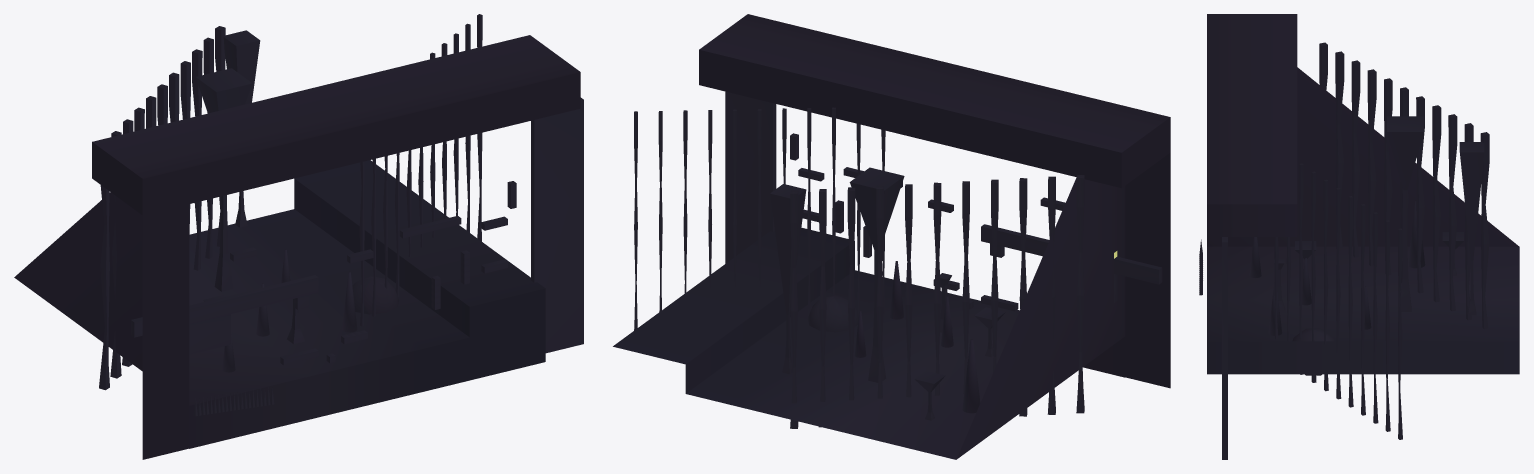
The model's file is terrain.glb.
3 renders of one model, left to right at view 1: azimuth 30°, elevation 25°; view 2: azimuth 150°, elevation 25°; view 3: azimuth 270°, elevation 25°, orthographic. The views are drawn at different scales.
Visible parts, largest first — view 1: Ground, Ground.021, Pole, Pole.001, Cube.004, Ground.018, Cube.005, Ground.019, Icosphere, Cone, Ground.024, Cylinder.002; view 2: Ground, Pole, Ground.021, Pole.001, Cube.004, Cube.005, Ground.018, Icosphere, Cylinder.004; view 3: Ground, Pole, Pole.001, Cube.004, Cube.005, Ground.021, Cylinder.004, Icosphere, Cylinder.002, Cylinder.
Boxes of the visible parts, <box> form: Ground: <box>14,35,580,459</box>; Ground.021: <box>531,97,583,353</box>; Pole: <box>99,26,225,390</box>; Pole.001: <box>359,14,482,326</box>; Cube.004: <box>196,68,252,291</box>; Ground.018: <box>131,275,318,337</box>; Cube.005: <box>223,30,260,227</box>; Ground.019: <box>189,314,230,354</box>; Icosphere: <box>352,275,398,314</box>; Cone: <box>193,387,274,416</box>; Ground.024: <box>399,215,461,238</box>; Cylinder.002: <box>342,271,357,332</box>; Ground: <box>613,14,1170,459</box>; Pole: <box>790,175,1084,428</box>; Ground.021: <box>725,91,776,263</box>; Pole.001: <box>634,107,885,330</box>; Cube.004: <box>849,167,904,382</box>; Cube.005: <box>770,184,806,374</box>; Ground.018: <box>981,224,1162,284</box>; Icosphere: <box>808,295,858,332</box>; Cylinder.004: <box>962,339,980,413</box>; Ground: <box>1207,14,1519,374</box>; Pole: <box>1319,42,1489,329</box>; Pole.001: <box>1274,163,1402,439</box>; Cube.004: <box>1387,116,1423,311</box>; Cube.005: <box>1459,142,1484,315</box>; Ground.021: <box>1222,237,1227,459</box>; Cylinder.004: <box>1408,200,1425,268</box>; Icosphere: <box>1292,328,1334,375</box>; Cylinder.002: <box>1268,282,1282,335</box>; Cylinder: <box>1249,237,1261,277</box>.
Size of the model in its own units: 77 by 46.06 by 53.28.
1 material, 1 textured.
